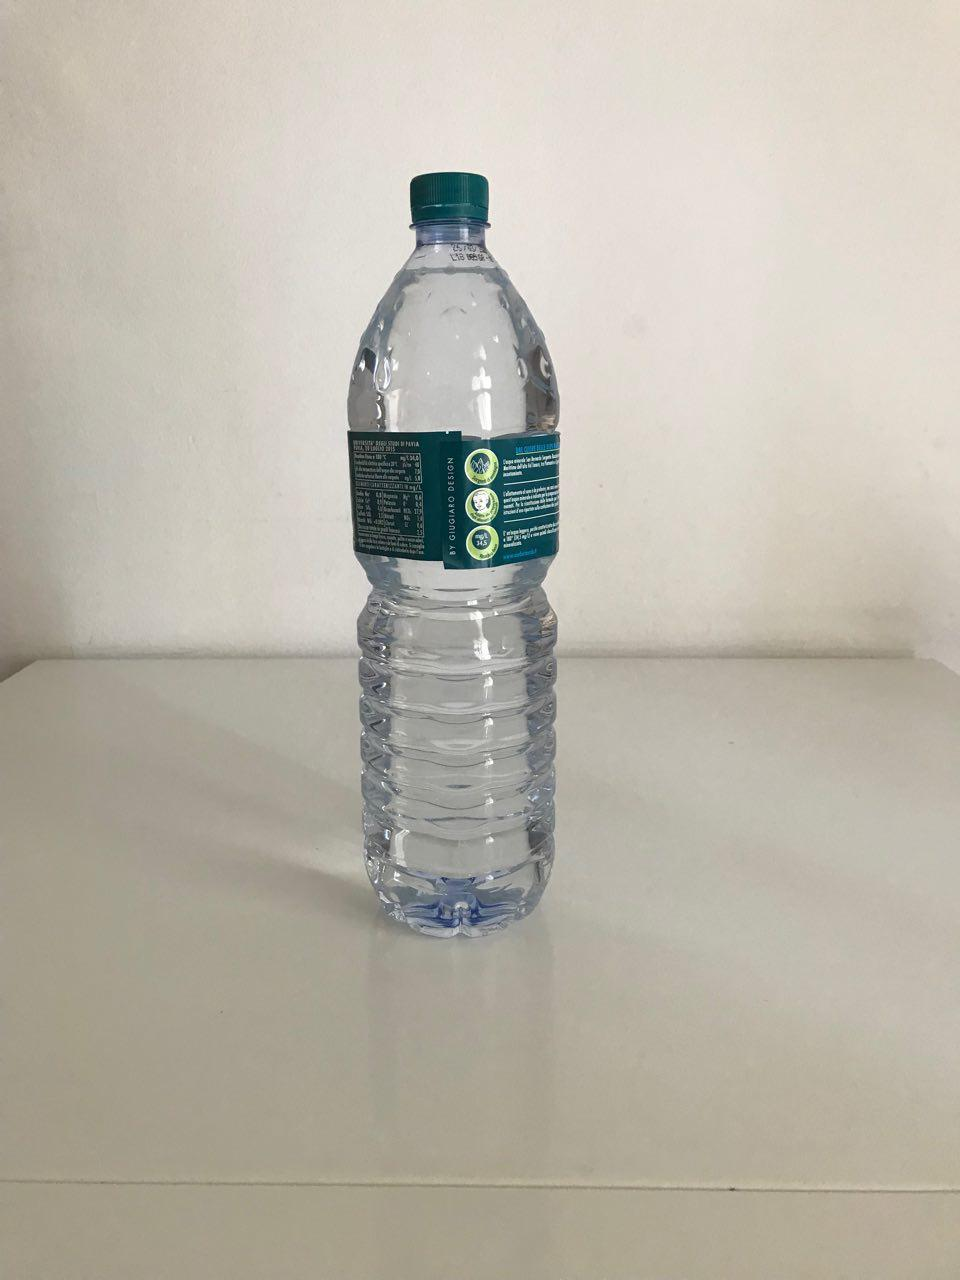san_bernardo: (346, 169, 564, 940)
